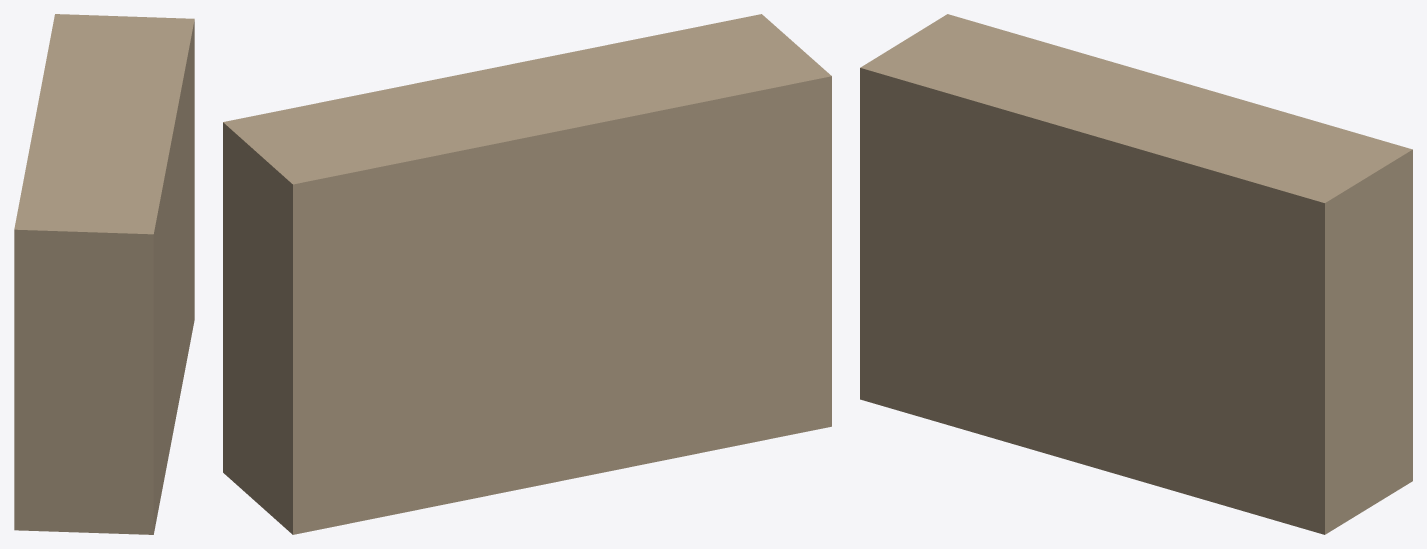
The model's file is bld_100469763.dae.
3 views of the same model, side by side, from view 1: azimuth 30°, elevation 25°; view 2: azimuth 150°, elevation 25°; view 3: azimuth 270°, elevation 25° (orthographic). The views are drawn at different scales.
Visible parts, largest first — view 1: bld_100469763; view 2: bld_100469763; view 3: bld_100469763.
Part boxes in pixels (x1,y1,x2,y2): bld_100469763: (14,14,194,534); bld_100469763: (223,14,831,534); bld_100469763: (860,14,1412,534).
Size of the model in its own units: 9.79 by 12.08 by 8.
